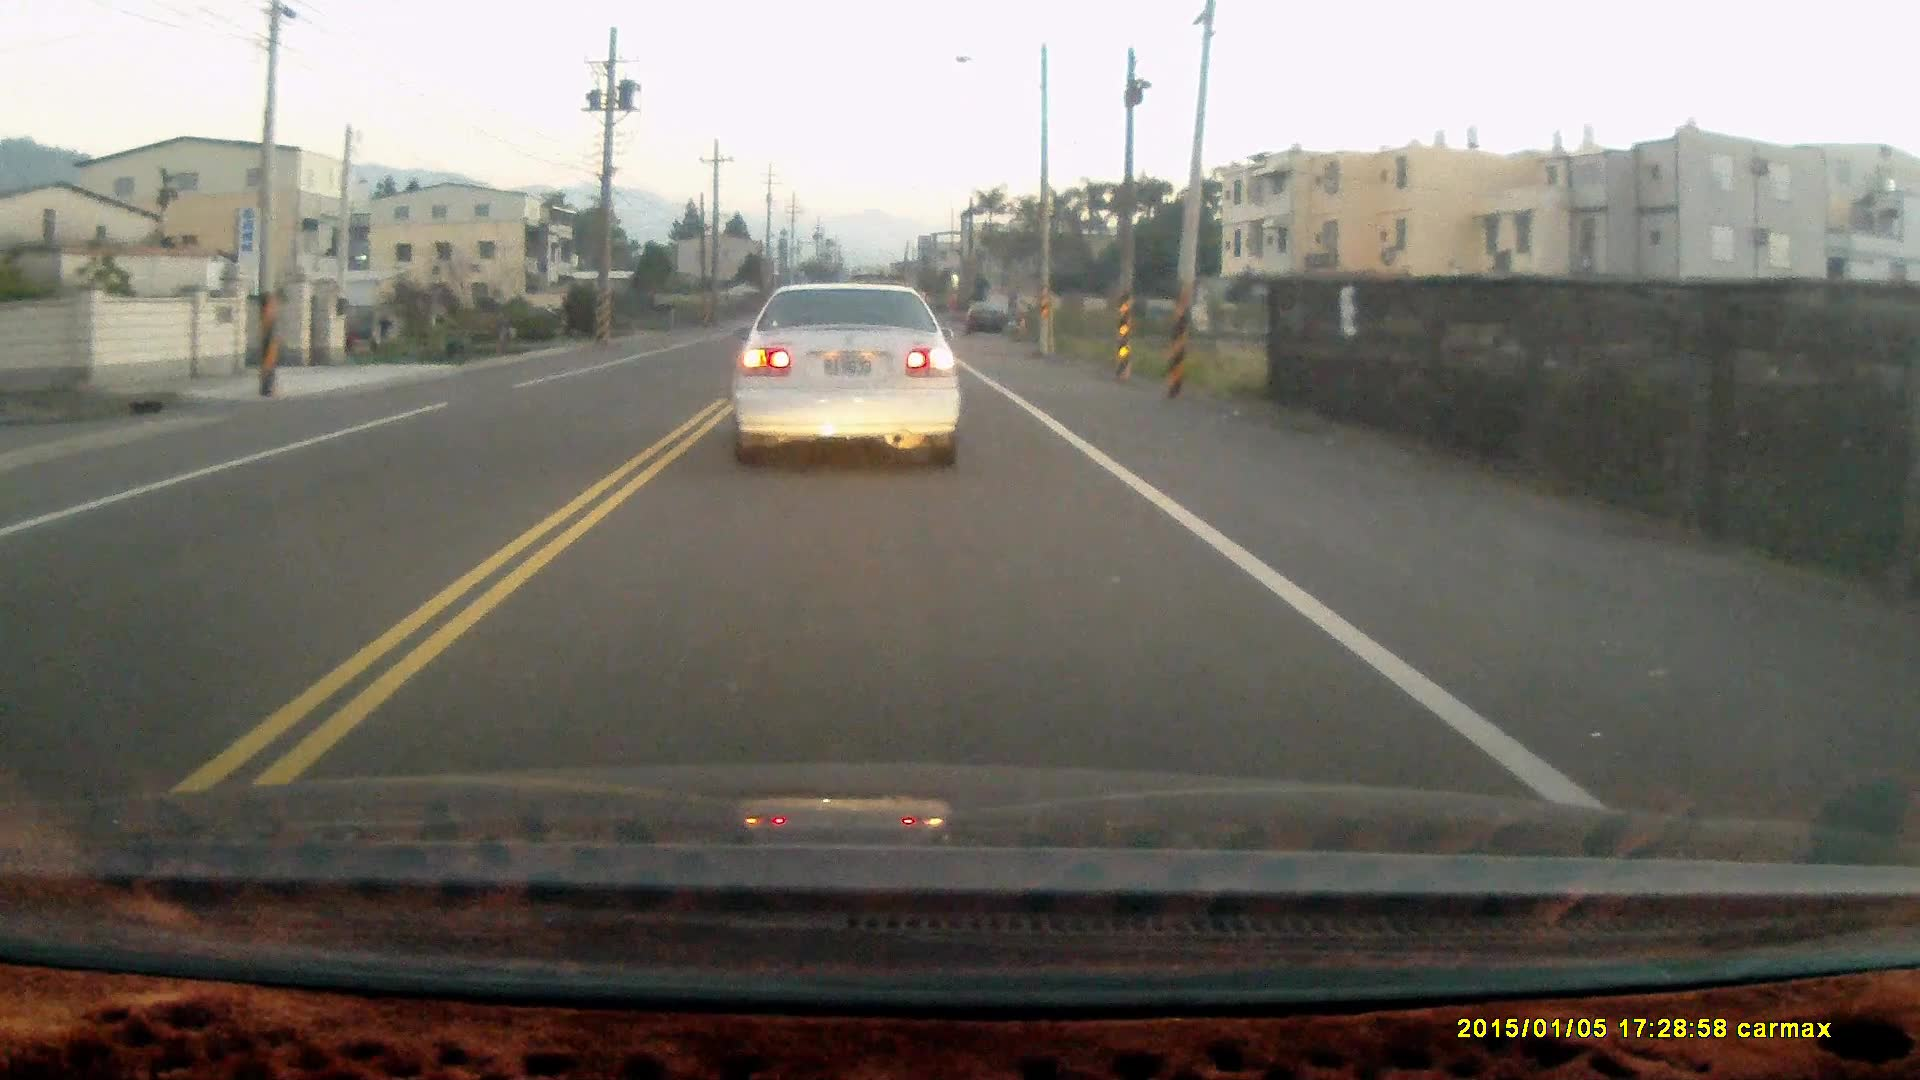vehicle: (733, 284, 967, 476), (965, 302, 1009, 340)
